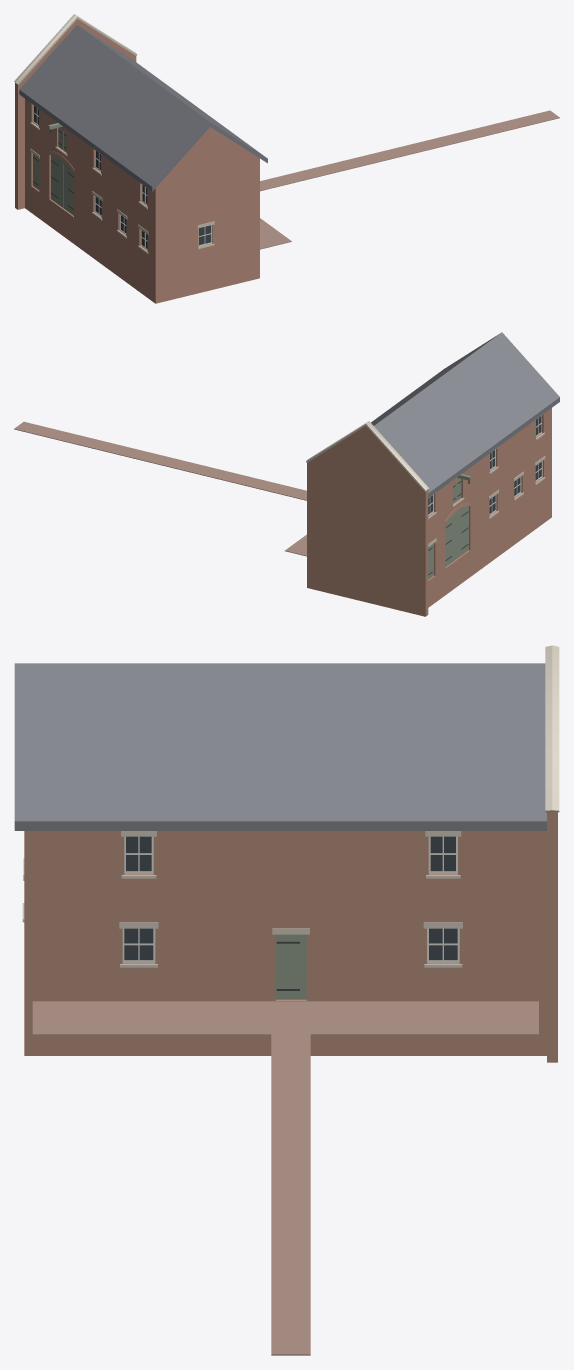
The model's file is law_house_1620_prairie_coach_house__as_standing_1904.glb.
The picture shows the model from 3 angles, top to bottom: view 1: azimuth 30°, elevation 25°; view 2: azimuth 150°, elevation 25°; view 3: azimuth 270°, elevation 25°; orthographic projection. The views are drawn at different scales.
Parts seen in each view (by area): view 1: law_house_1620_prairie_coach_house__as_standing_1904; view 2: law_house_1620_prairie_coach_house__as_standing_1904; view 3: law_house_1620_prairie_coach_house__as_standing_1904.
Boxes of the visible parts, bbox=[...] form: law_house_1620_prairie_coach_house__as_standing_1904: bbox=[14, 14, 559, 303]; law_house_1620_prairie_coach_house__as_standing_1904: bbox=[14, 332, 559, 616]; law_house_1620_prairie_coach_house__as_standing_1904: bbox=[14, 645, 559, 1355].
Bounding box in the file's own units: 33.79 × 12.12 × 16.65.
